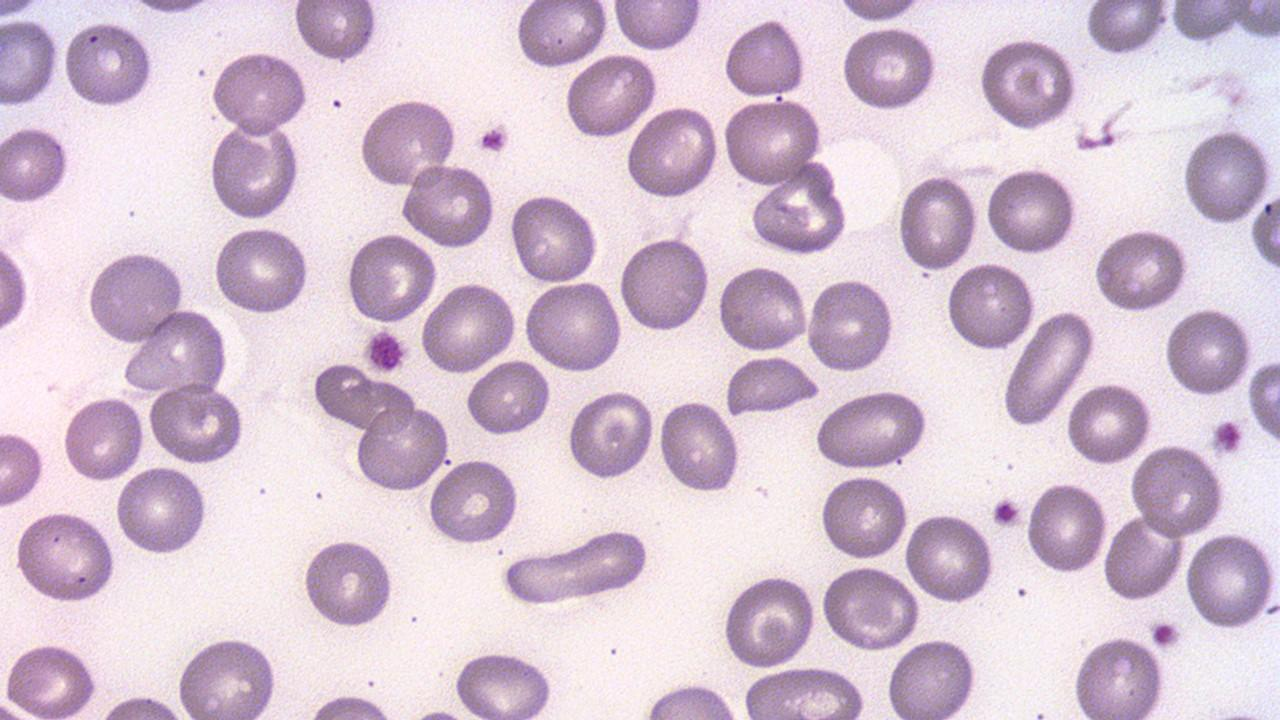Platelets: (362, 327, 408, 375), (1210, 416, 1246, 458), (474, 122, 512, 156)
RBC: (499, 530, 654, 608), (1000, 309, 1097, 426), (208, 113, 304, 222), (83, 247, 187, 346), (13, 508, 118, 606), (1182, 528, 1276, 634), (749, 161, 851, 257), (976, 36, 1078, 132), (815, 388, 931, 472), (522, 278, 623, 374), (356, 97, 460, 190), (624, 104, 722, 202), (616, 234, 712, 334), (720, 96, 824, 188), (1129, 443, 1227, 540), (720, 571, 816, 670), (418, 281, 517, 377), (122, 308, 231, 395), (1180, 126, 1274, 226), (174, 630, 283, 716), (112, 462, 209, 558), (301, 534, 396, 631), (212, 224, 312, 316), (819, 561, 920, 652), (208, 48, 310, 137), (902, 512, 997, 606), (61, 16, 156, 110), (984, 163, 1080, 256), (944, 258, 1037, 354), (398, 160, 496, 251), (804, 275, 894, 374), (838, 25, 940, 112), (1089, 227, 1191, 314), (426, 456, 522, 548), (508, 191, 602, 284), (346, 231, 438, 326), (562, 50, 658, 141), (566, 386, 656, 483), (1070, 631, 1168, 719), (656, 396, 743, 495), (895, 171, 980, 272), (1163, 304, 1253, 399), (352, 403, 448, 492), (718, 262, 809, 354), (818, 472, 910, 562), (1024, 479, 1108, 577), (146, 383, 246, 465), (1101, 509, 1187, 604), (884, 634, 981, 718), (1064, 380, 1154, 468), (61, 392, 146, 485), (1, 640, 103, 716), (448, 650, 558, 718), (464, 356, 554, 439), (722, 15, 808, 101), (512, 0, 610, 71), (738, 664, 868, 716), (722, 353, 821, 416), (0, 122, 72, 206), (292, 1, 380, 65), (0, 17, 60, 108), (1084, 1, 1170, 59), (610, 1, 704, 54), (637, 680, 746, 718), (0, 426, 48, 510), (1166, 1, 1250, 44), (0, 231, 31, 341), (1246, 354, 1280, 447), (305, 690, 400, 720), (1249, 190, 1279, 272), (834, 0, 924, 23), (0, 1, 39, 21)
